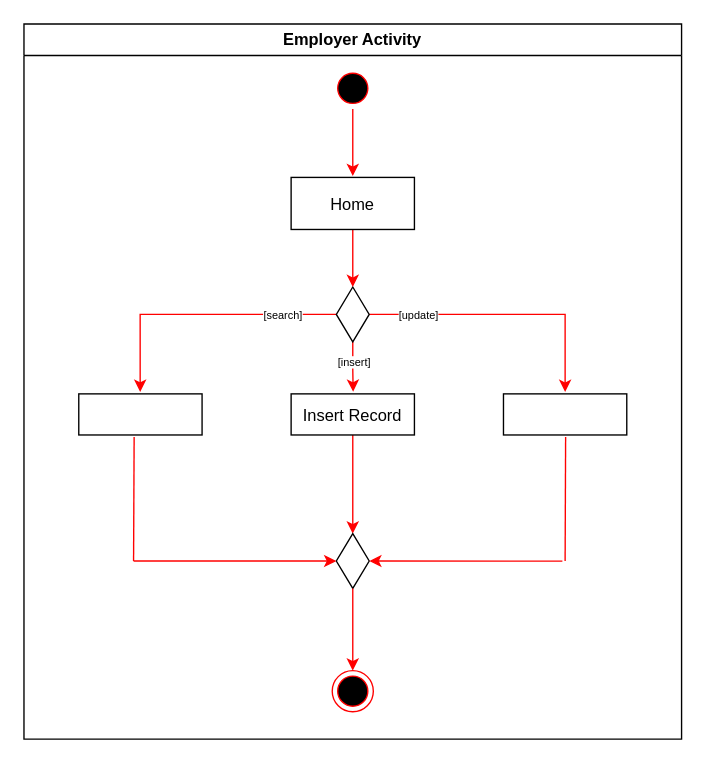
Image size: 706x763. Some labels were removed from this diagram. The centre of each missing label's shape, as x and y in pixels:
"Search" belongs at point 139,414.
"Update Record" belongs at point 564,414.
